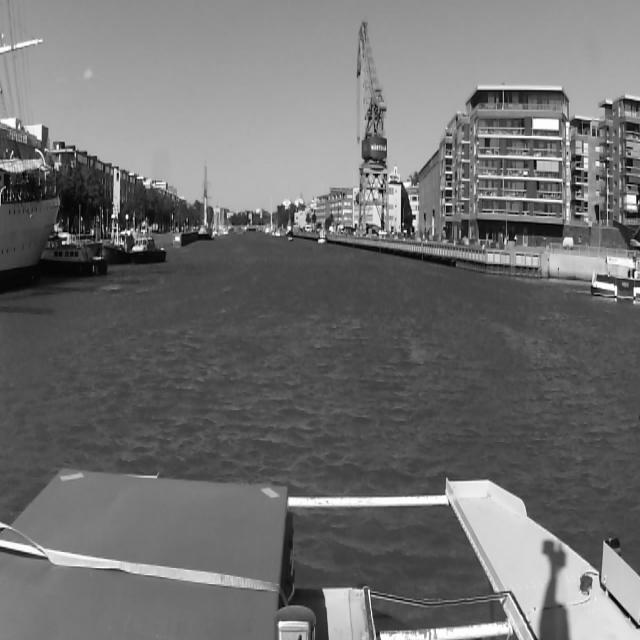ship: (2, 4, 60, 289), (41, 228, 107, 276), (592, 256, 638, 303), (128, 235, 166, 264), (103, 214, 125, 264), (207, 200, 226, 244), (316, 220, 326, 246), (268, 204, 274, 236), (288, 236, 294, 244)
